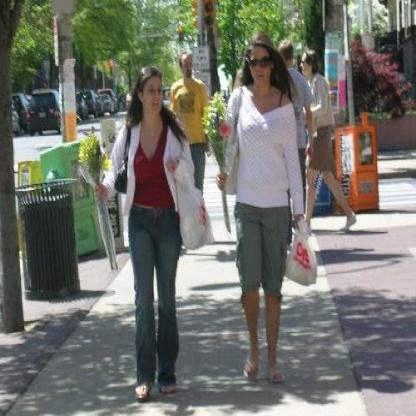person: (211, 32, 318, 392), (99, 64, 200, 397), (300, 48, 362, 237)
